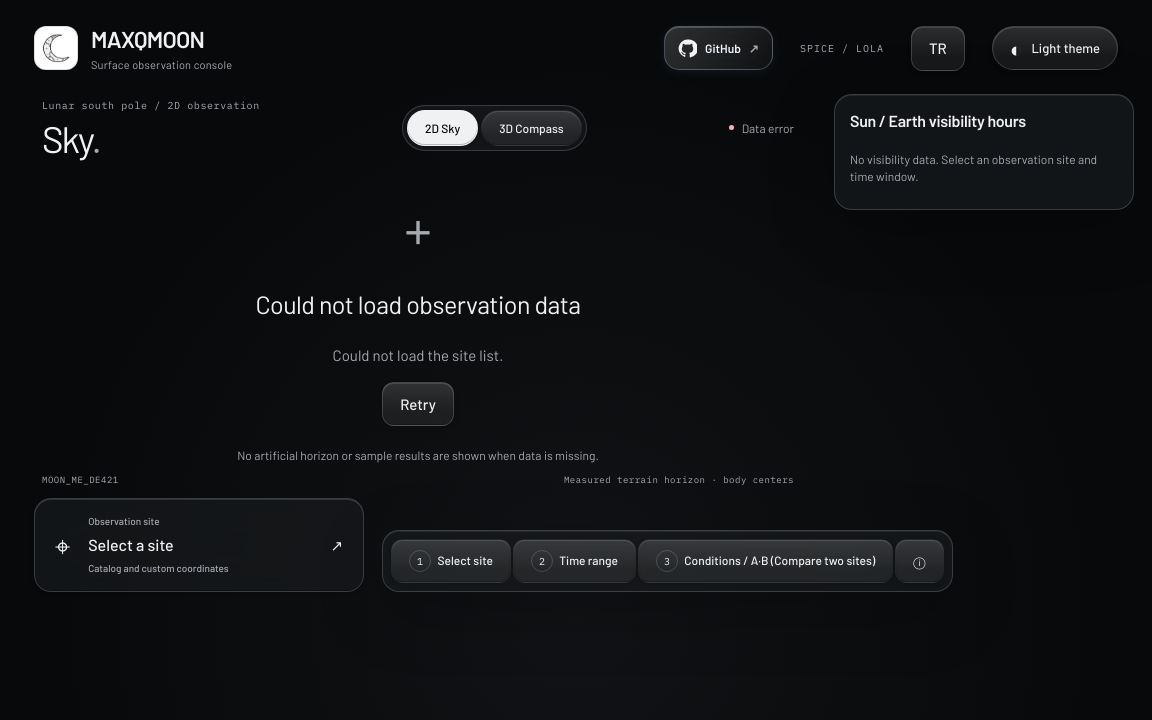
Test case: catalog fallback is translated at display time without another request
Check: the text "Could not load the site list." is shown, box top-left (333, 346), bottom-right (503, 364)
Click the button with aria-label "Switch language". click: click(938, 48)
box: top-left (911, 26), bottom-right (965, 71)
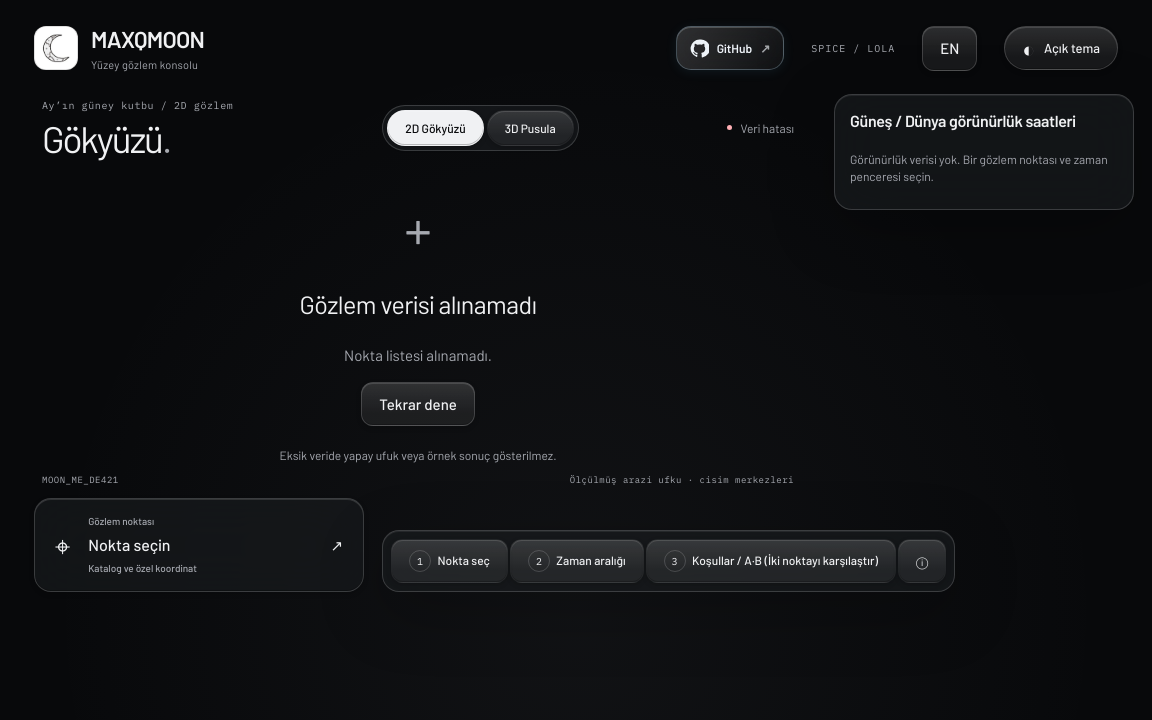
Check: the text "Nokta listesi alınamadı." is shown, box top-left (344, 346), bottom-right (492, 364)
